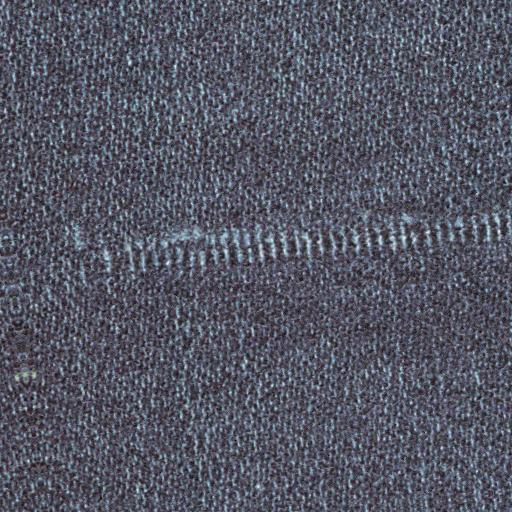slub: (102, 213, 509, 277)
